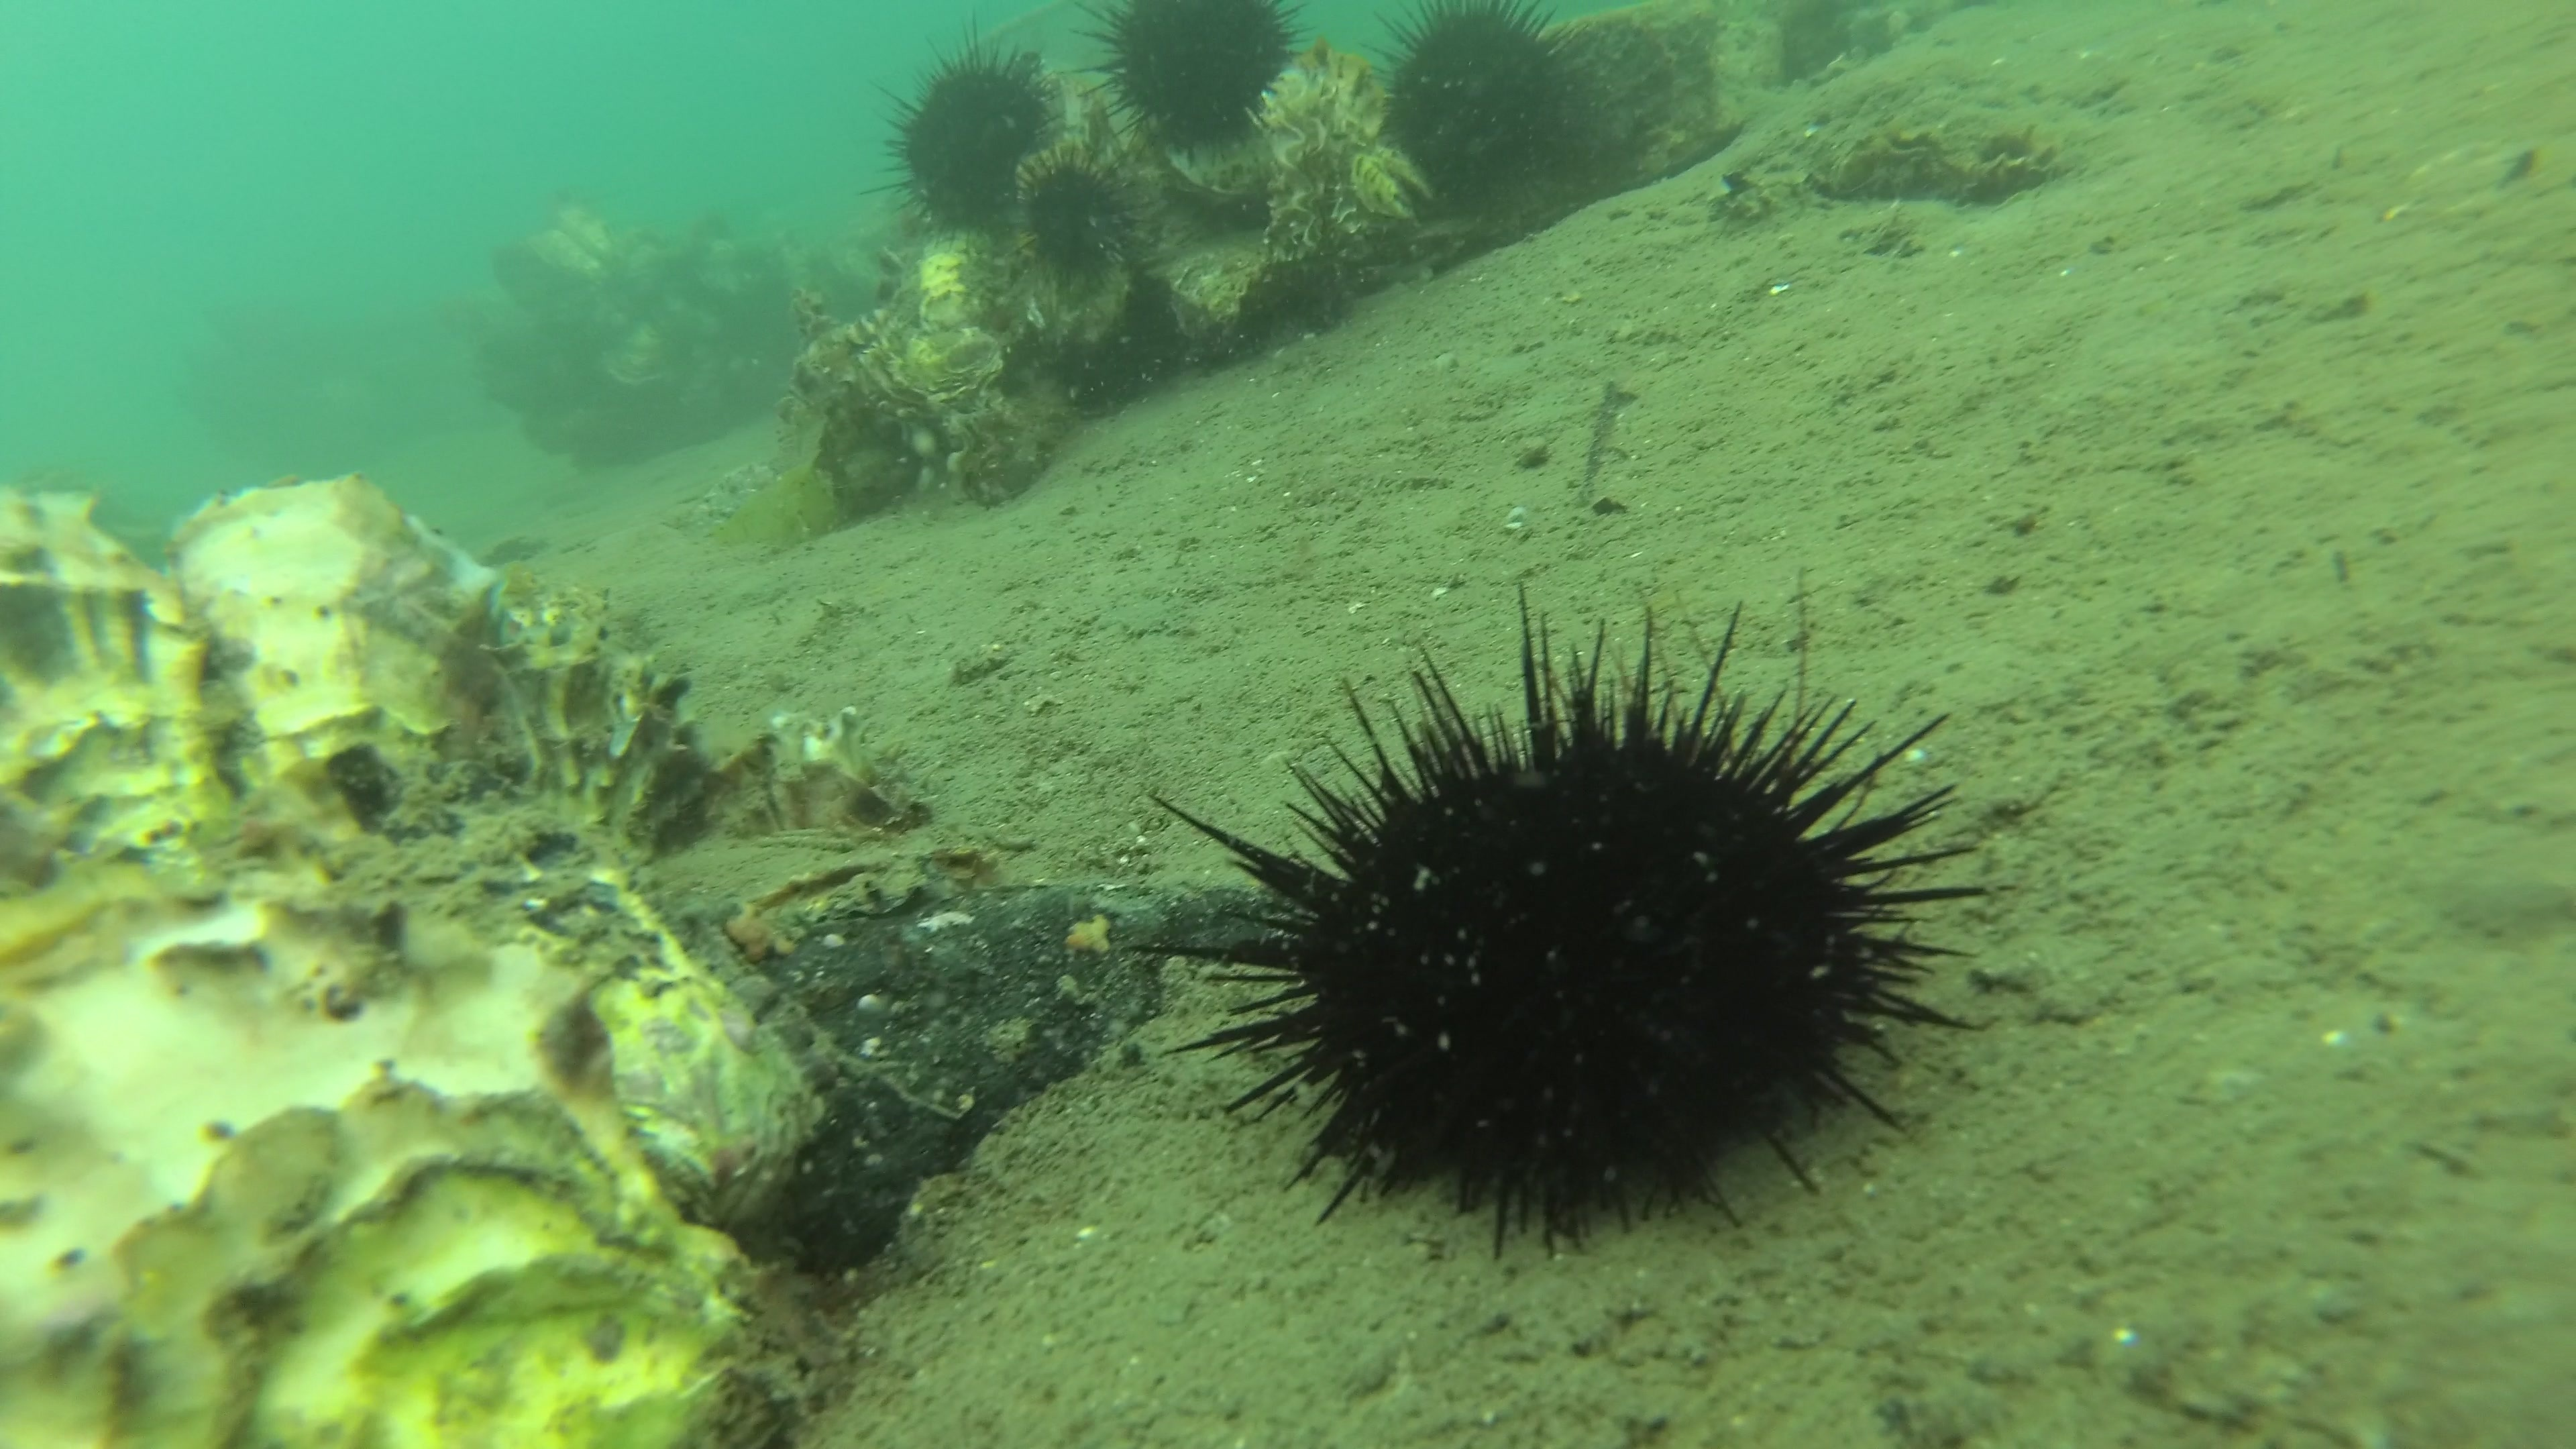echinus: (1047, 617, 2043, 1281), (858, 7, 1069, 253), (1357, 0, 1599, 196), (1062, 0, 1316, 166), (1010, 133, 1146, 290)
